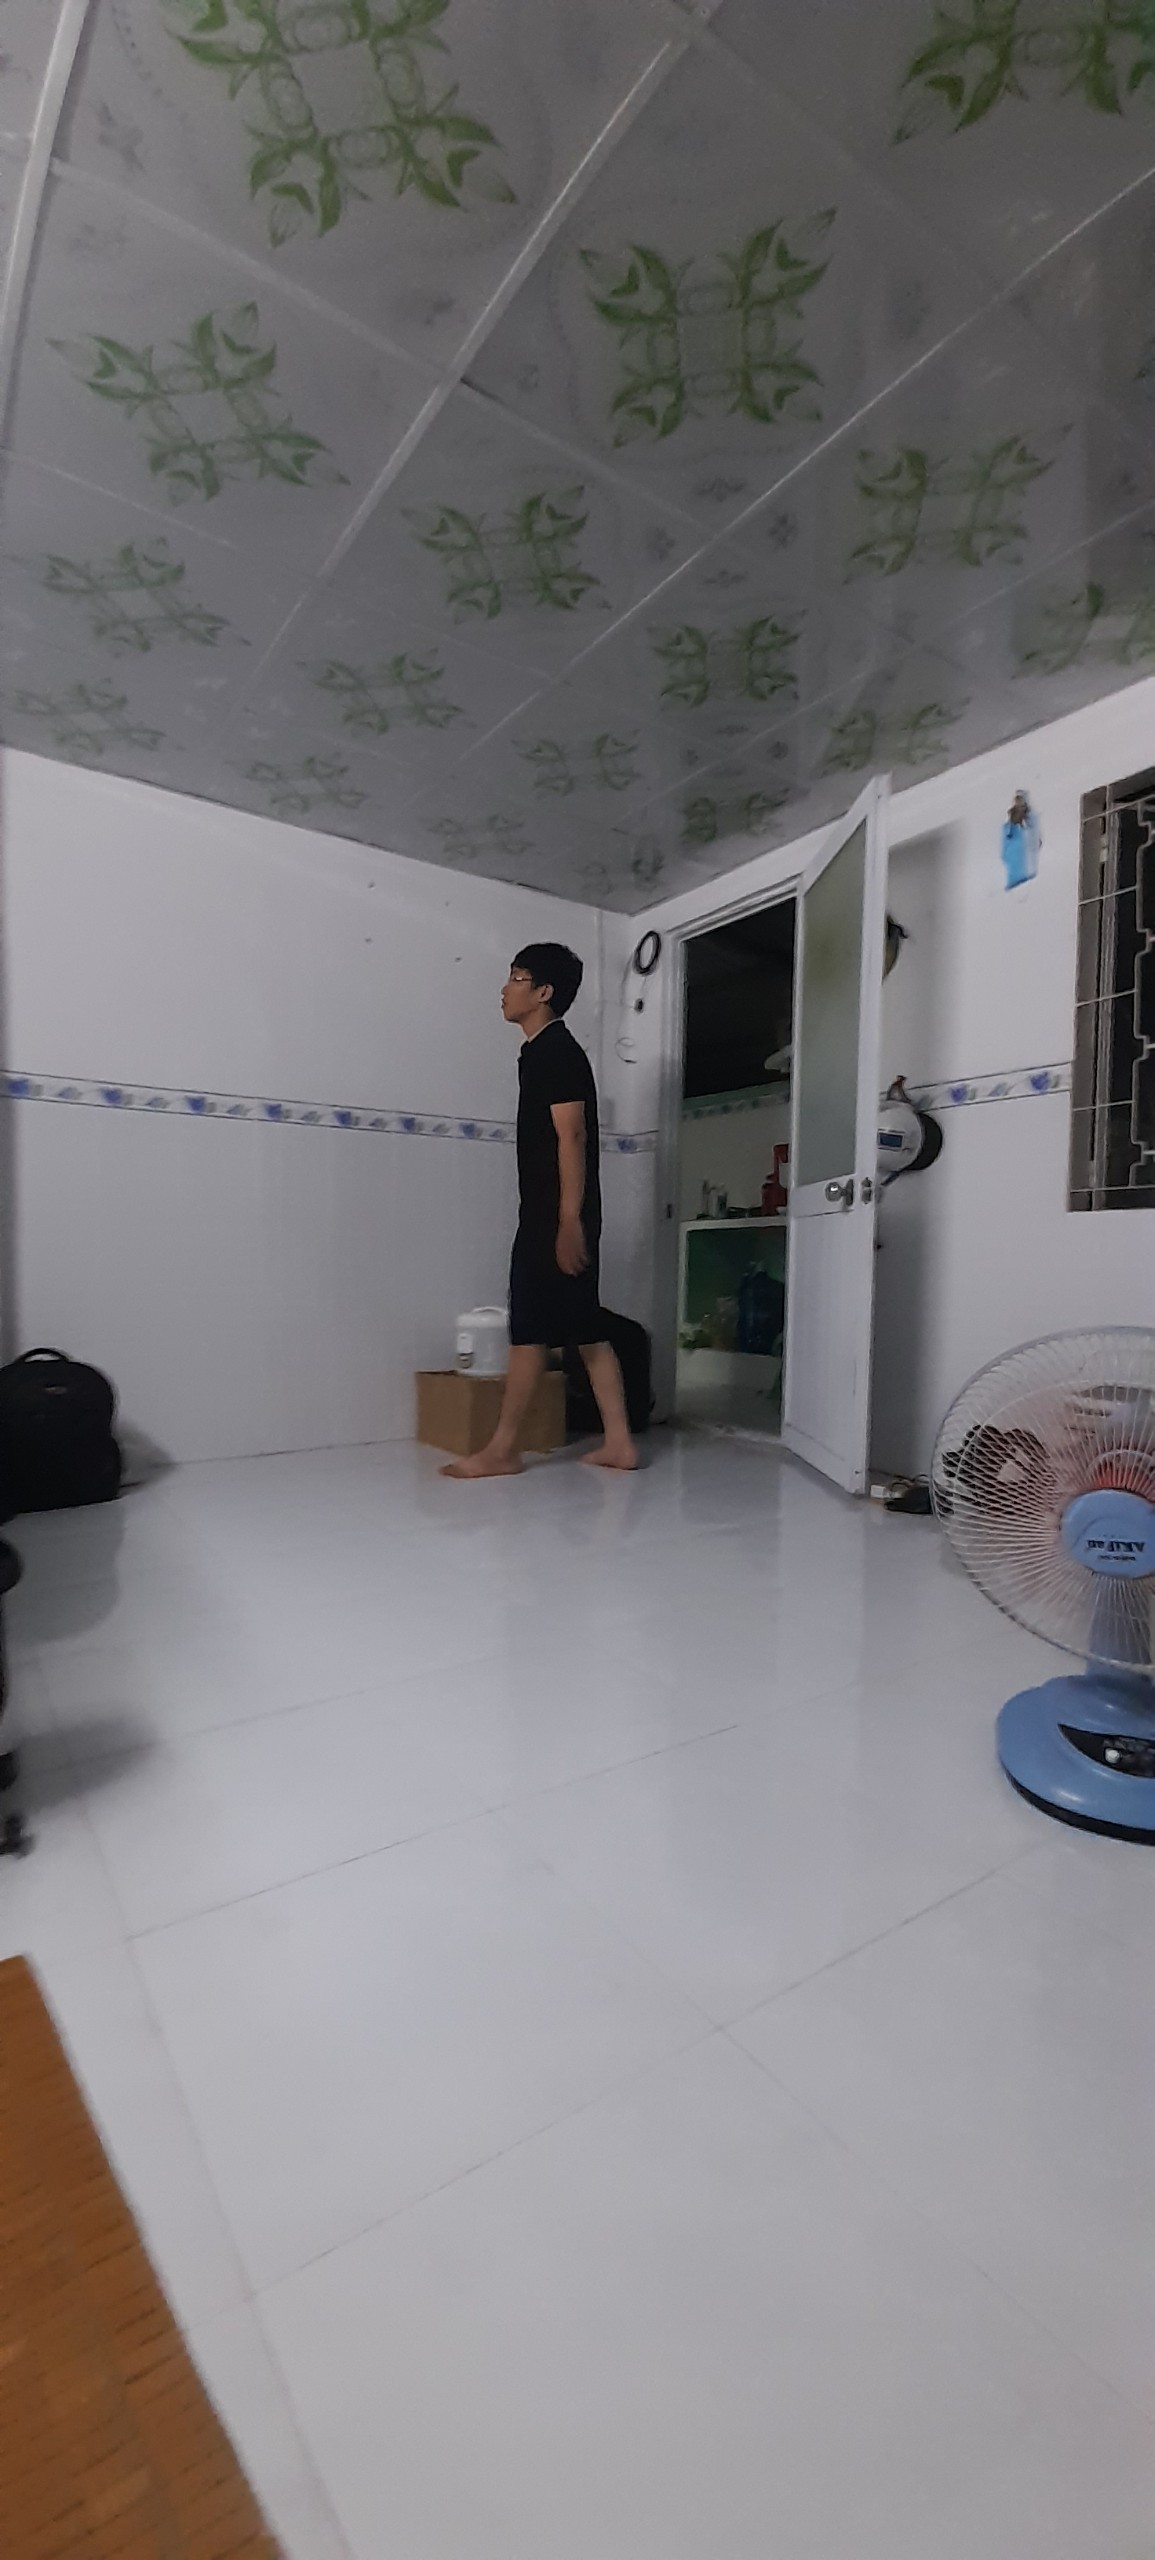person: (457, 944, 646, 1474)
